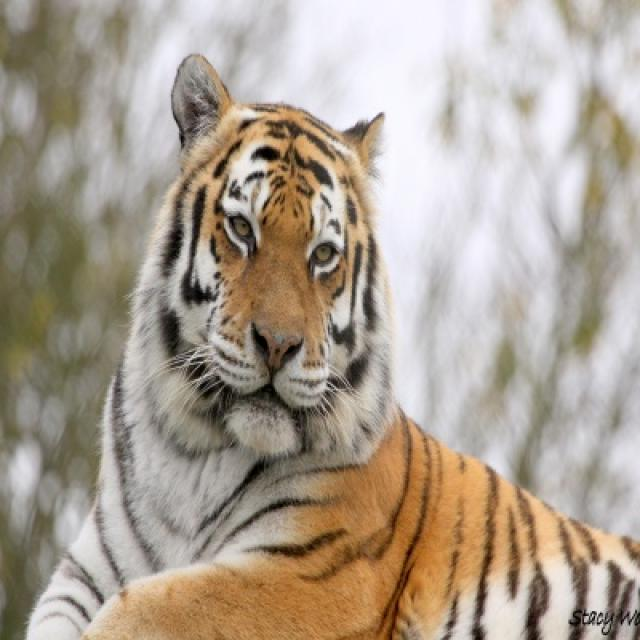Tiger: (23, 55, 638, 638)
